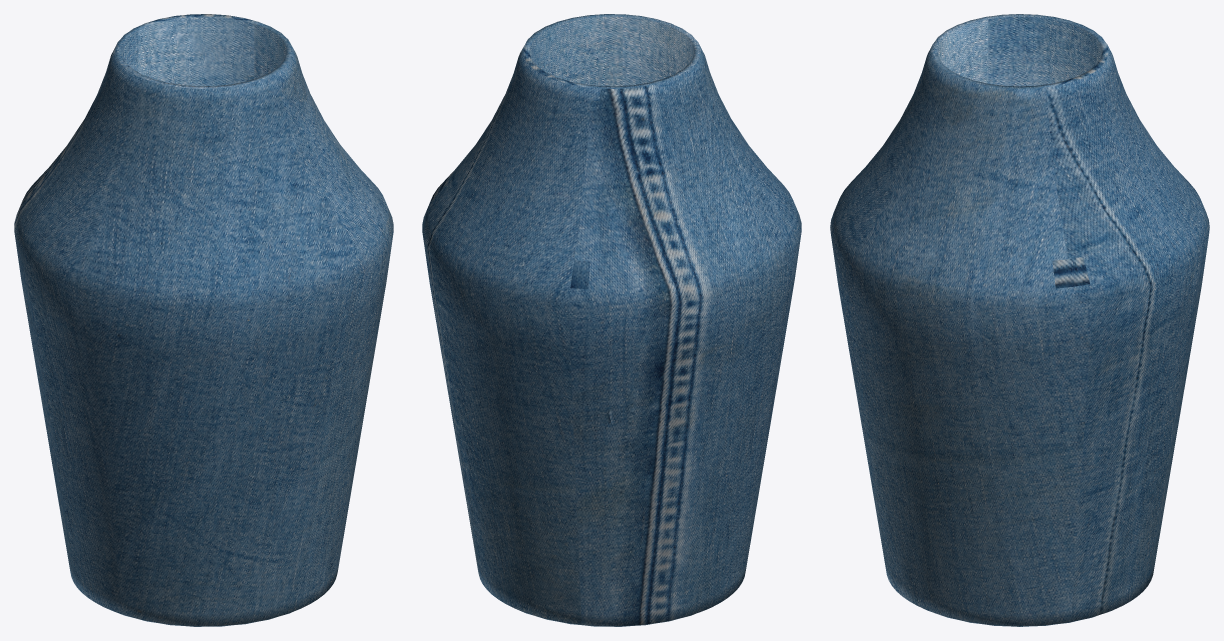
File: vase.glb
The picture shows the model from 3 angles, left to right: view 1: azimuth 30°, elevation 25°; view 2: azimuth 150°, elevation 25°; view 3: azimuth 270°, elevation 25°; orthographic projection.
Parts seen in each view (by area): view 1: Cylinder; view 2: Cylinder; view 3: Cylinder.
Boxes of the visible parts, <box> form: Cylinder: <box>14,14,393,626</box>; Cylinder: <box>422,14,801,626</box>; Cylinder: <box>830,14,1209,626</box>.
Bounding box in the file's own units: 1.96 × 2.97 × 1.96.
1 material, 1 textured.
